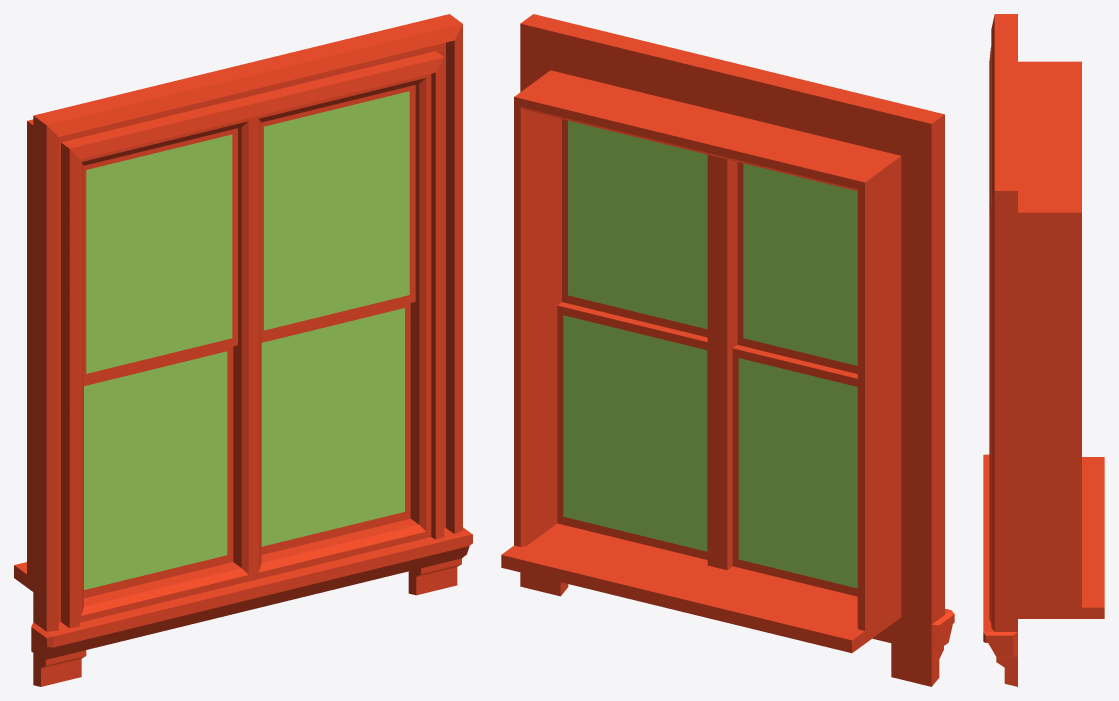
File: SM_Window_C_City.fbx
3 views of the same model, side by side, from view 1: azimuth 30°, elevation 25°; view 2: azimuth 150°, elevation 25°; view 3: azimuth 270°, elevation 25° (orthographic). The views are drawn at different scales.
Visible parts, largest first — view 1: SM_Window_C_City_Frame, SM_Window_C_City_Glass_RT, SM_Window_C_City_Glass_LT, SM_Window_C_City_Glass_RB, SM_Window_C_City_Glass_LB; view 2: SM_Window_C_City_Frame, SM_Window_C_City_Glass_RB, SM_Window_C_City_Glass_LB, SM_Window_C_City_Glass_RT, SM_Window_C_City_Glass_LT; view 3: SM_Window_C_City_Frame.
Boxes of the visible parts, bbox=[...] form: SM_Window_C_City_Frame: bbox=[14, 14, 472, 686]; SM_Window_C_City_Glass_RT: bbox=[261, 85, 415, 339]; SM_Window_C_City_Glass_LT: bbox=[84, 128, 237, 382]; SM_Window_C_City_Glass_RB: bbox=[261, 303, 410, 554]; SM_Window_C_City_Glass_LB: bbox=[84, 346, 233, 598]; SM_Window_C_City_Frame: bbox=[501, 14, 954, 686]; SM_Window_C_City_Glass_RB: bbox=[557, 302, 707, 559]; SM_Window_C_City_Glass_LB: bbox=[732, 345, 857, 596]; SM_Window_C_City_Glass_RT: bbox=[562, 119, 707, 337]; SM_Window_C_City_Glass_LT: bbox=[737, 162, 857, 373]; SM_Window_C_City_Frame: bbox=[983, 14, 1104, 686].
Size of the model in its own units: 1.41 by 1.8 by 0.4003.
